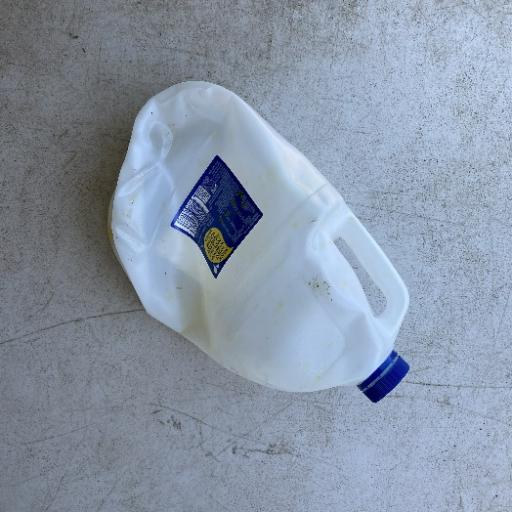Plastic: (104, 78, 412, 405)
